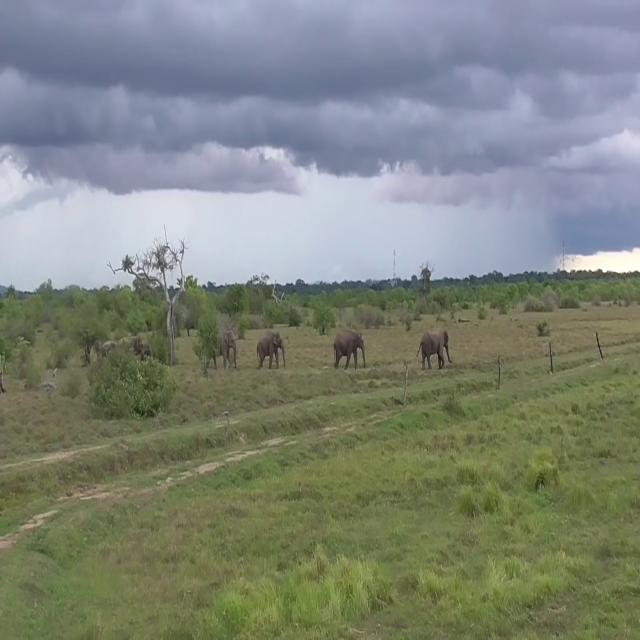Elephant: (416, 328, 452, 371), (333, 330, 365, 370), (256, 331, 286, 369), (220, 330, 237, 369)
